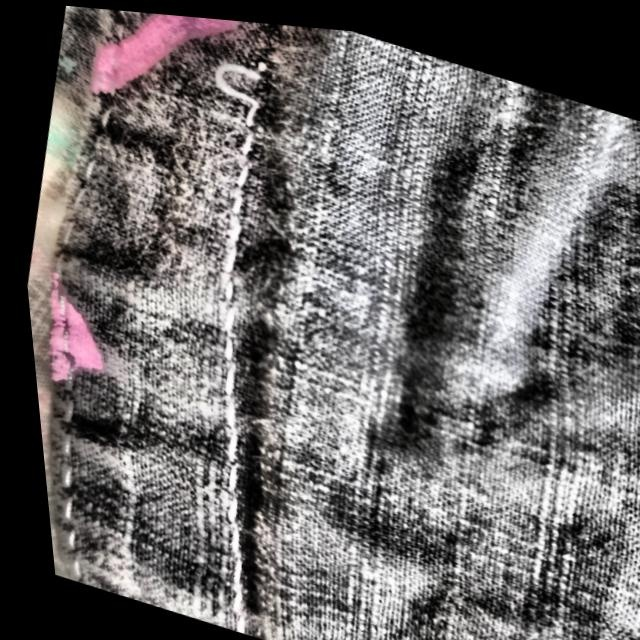Stitch: (151, 12, 320, 167)
